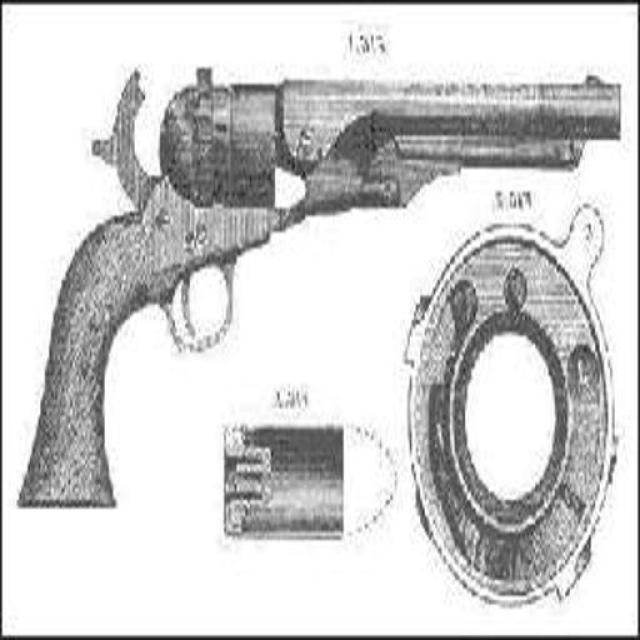pistol: (16, 60, 622, 504)
